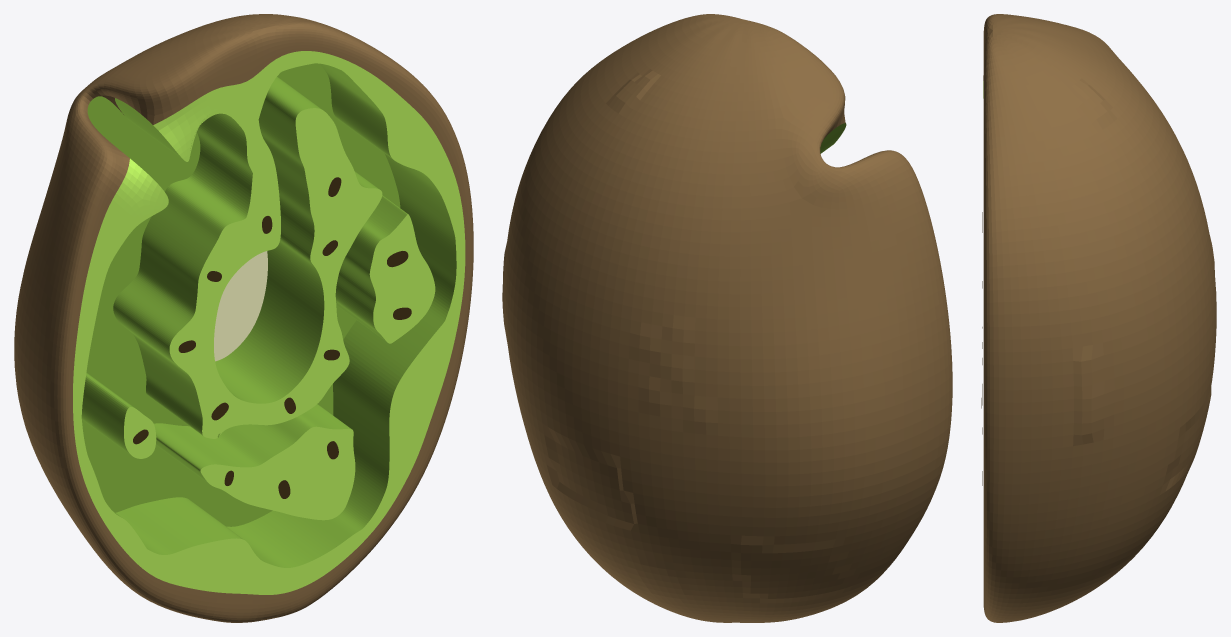
Rendered from kiwi.fbx.
3 views of the same model, side by side, from view 1: azimuth 30°, elevation 25°; view 2: azimuth 150°, elevation 25°; view 3: azimuth 270°, elevation 25° (orthographic). The views are drawn at different scales.
Parts seen in each view (by area): view 1: Kiwi, Seed; view 2: Kiwi; view 3: Kiwi.
Boxes of the visible parts, x1,y1,x2,y2 form: Kiwi: (14, 14, 473, 622); Seed: (133, 177, 411, 498); Kiwi: (502, 14, 952, 622); Kiwi: (983, 14, 1216, 622).
Size of the model in its own units: 467 by 631 by 234.
